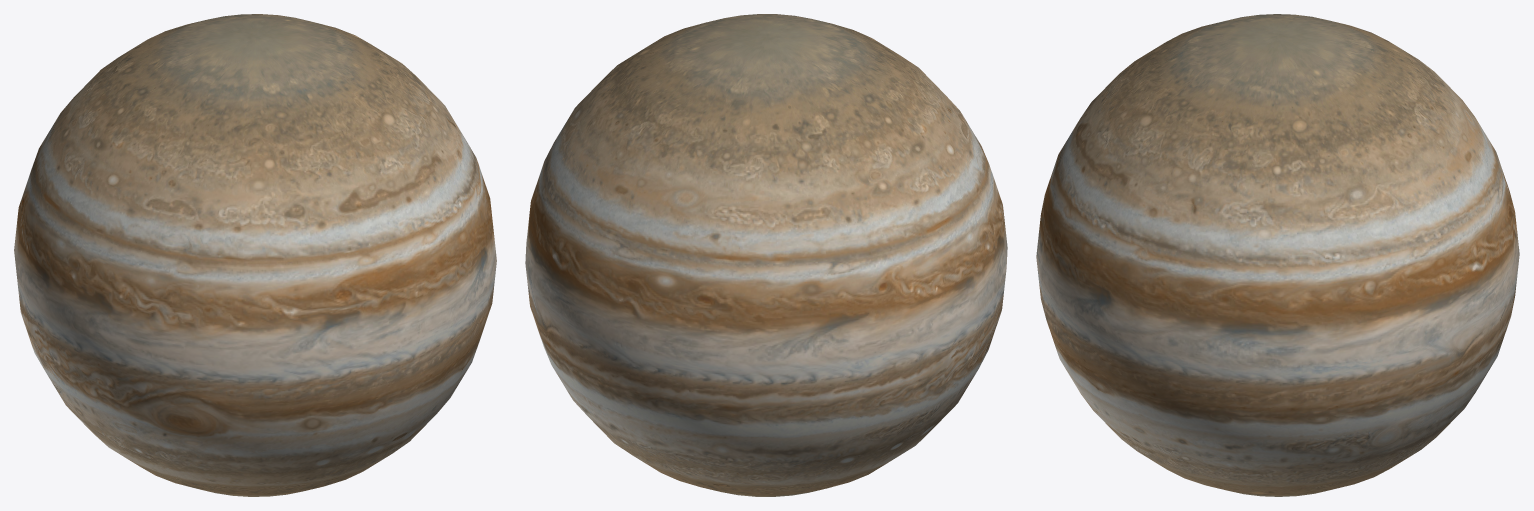
File: muxing.obj
3 renders of one model, left to right at view 1: azimuth 30°, elevation 25°; view 2: azimuth 150°, elevation 25°; view 3: azimuth 270°, elevation 25°, orthographic.
Visible parts, largest first — view 1: Sphere001; view 2: Sphere001; view 3: Sphere001.
Boxes of the visible parts, <box> form: Sphere001: <box>14,14,496,496</box>; Sphere001: <box>525,14,1007,496</box>; Sphere001: <box>1036,14,1519,496</box>.
Bounding box in the file's own units: 78.32 × 78.33 × 78.32.
Materials: 1 (1 with a texture image).
